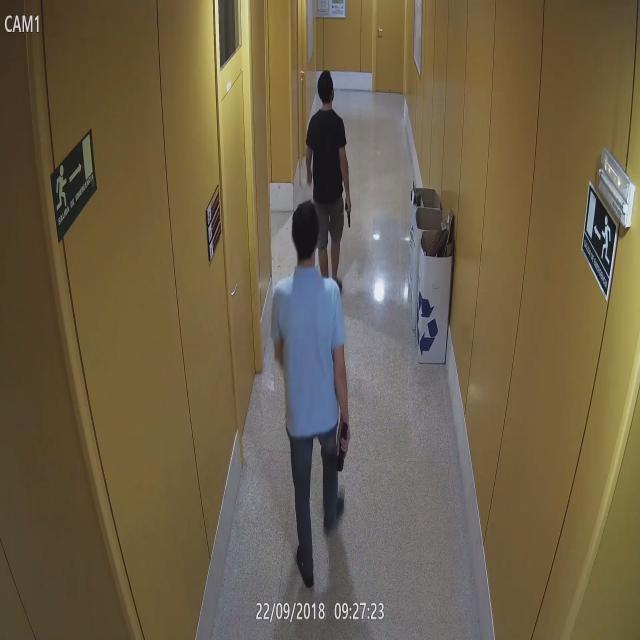weapon: (333, 426, 353, 472), (344, 200, 352, 228)
